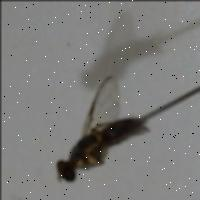Oriental-fruit-fly: (41, 61, 155, 192)
